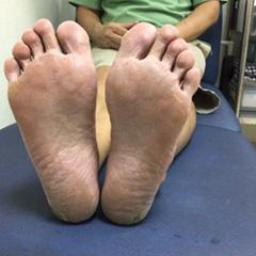Plantar View -Both Feet-: (1, 7, 207, 237)
